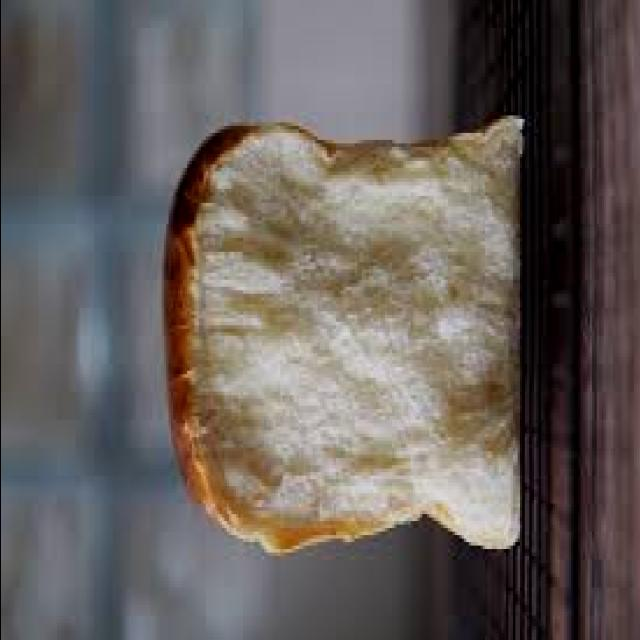roti tawar: (161, 115, 524, 556)
